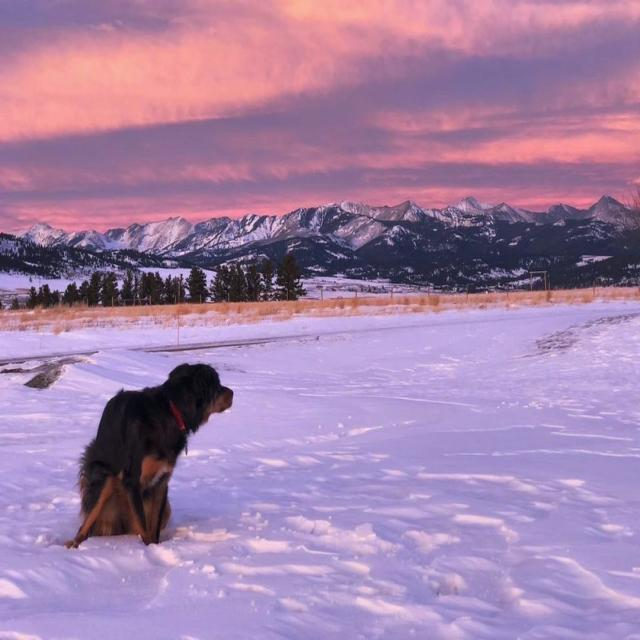squatting: (64, 356, 236, 553)
